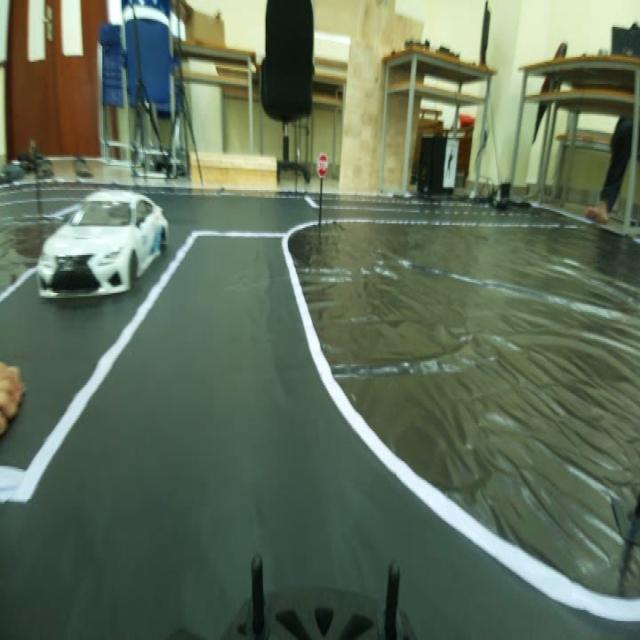car: (48, 169, 165, 301)
stop: (315, 142, 332, 178)
